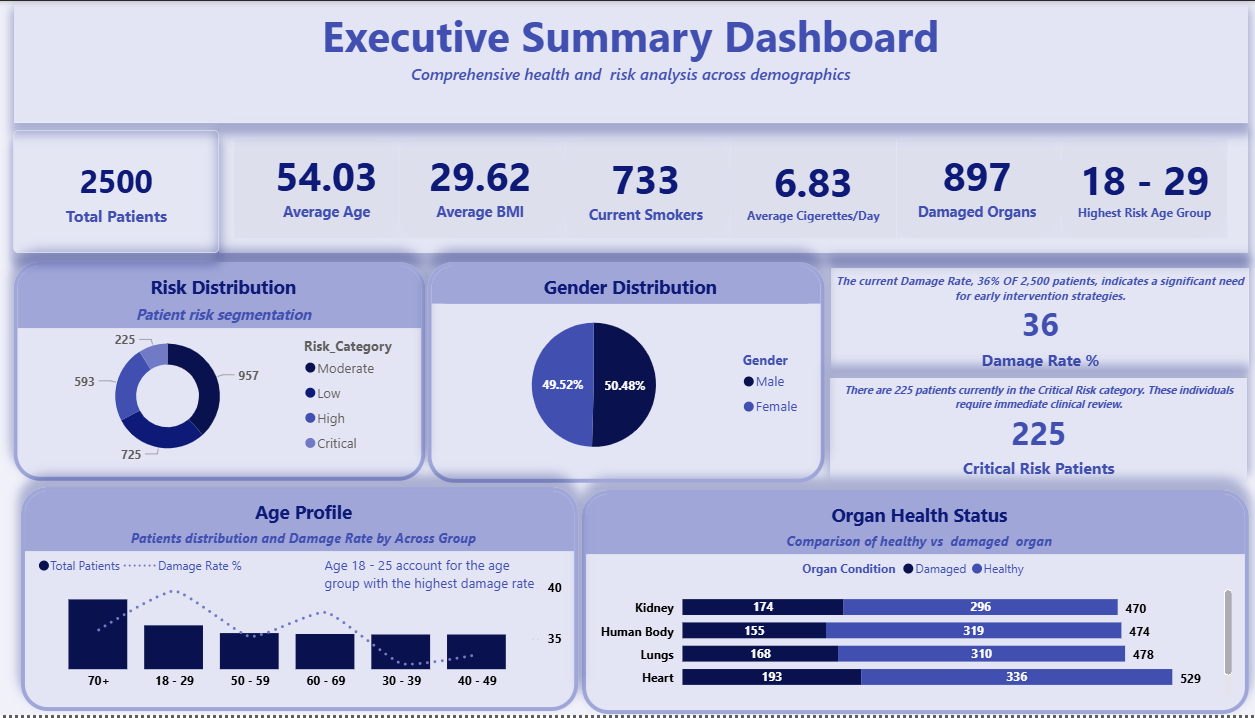

The page's visual inventory and layout, read from the dashboard file:
{"tool":"powerbi","page":{"name":"Executive Summary Dashboard","canvas":[1280,720],"ordinal":0},"visuals":[{"type":"cardVisual","fields":{"Data":["health_dataset.Average Age","health_dataset.Average BMI","health_dataset.Current Smokers","health_dataset.Average Cigerettes/Day","health_dataset.Damaged Organs","health_dataset.Highest Risk Age Group"]},"box":[220.9,124.1,1037.9,130.1],"z":0},{"type":"textbox","box":[13.6,0,1245.2,122.6],"z":1000},{"type":"donutChart","title":"Risk Distribution","fields":{"Category":["health_dataset.Risk_Category"],"Y":["health_dataset.Total Patients"]},"box":[13.6,263,415.1,220.5],"z":2000},{"type":"barChart","title":"Organ Health Status","fields":{"Category":["health_dataset.Organ"],"Y":["health_dataset.Total Records"],"Series":["health_dataset.Organ_Condition"]},"box":[586.4,493.8,672.5,225.8],"z":3000},{"type":"pieChart","title":"Gender Distribution","fields":{"Category":["health_dataset.Gender"],"Y":["health_dataset.Total Patients"]},"box":[431.2,263.3,400.9,222.4],"z":4000},{"type":"lineClusteredColumnComboChart","title":"Age Profile","fields":{"Category":["health_dataset.Age Group"],"Y":["health_dataset.Total Patients"],"Y2":["health_dataset.Damage Rate %"]},"box":[21.1,490.6,562,225.8],"z":5000},{"type":"card","fields":{"Values":["health_dataset.Total Patients"]},"box":[13.4,130.5,207.5,123.8],"z":6000},{"type":"card","fields":{"Values":["health_dataset.Damage Rate %"]},"box":[838.3,269.4,421.6,105.4],"z":7000},{"type":"card","fields":{"Values":["health_dataset.Critical Risk Patients"]},"box":[836.6,379.8,421.6,105.4],"z":8000},{"type":"textbox","box":[322.9,553.8,229.2,66.9],"z":9000}]}

Visuals, with their boxes in screenshot pixels (x1, y1, x2, y2), scaled from the page's 1280x720 canvas onto the 1255x718 screenshot:
cardVisual - health_dataset.Average Age x health_dataset.Average BMI: 217,124,1234,253
textbox: 13,0,1234,122
"Risk Distribution" donutChart: 13,262,420,482
"Organ Health Status" barChart: 575,492,1234,717
"Gender Distribution" pieChart: 423,263,816,484
"Age Profile" lineClusteredColumnComboChart: 21,489,572,714
card - health_dataset.Total Patients: 13,130,217,254
card - health_dataset.Damage Rate %: 822,269,1235,374
card - health_dataset.Critical Risk Patients: 820,379,1234,484
textbox: 317,552,541,619
